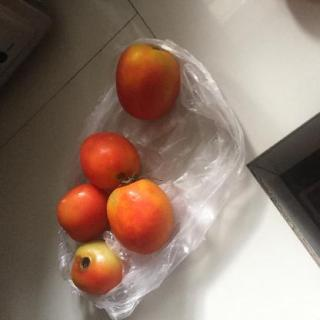Tomat: (106, 39, 198, 124), (101, 179, 182, 256), (69, 133, 156, 190), (67, 237, 131, 301), (52, 183, 113, 243)
